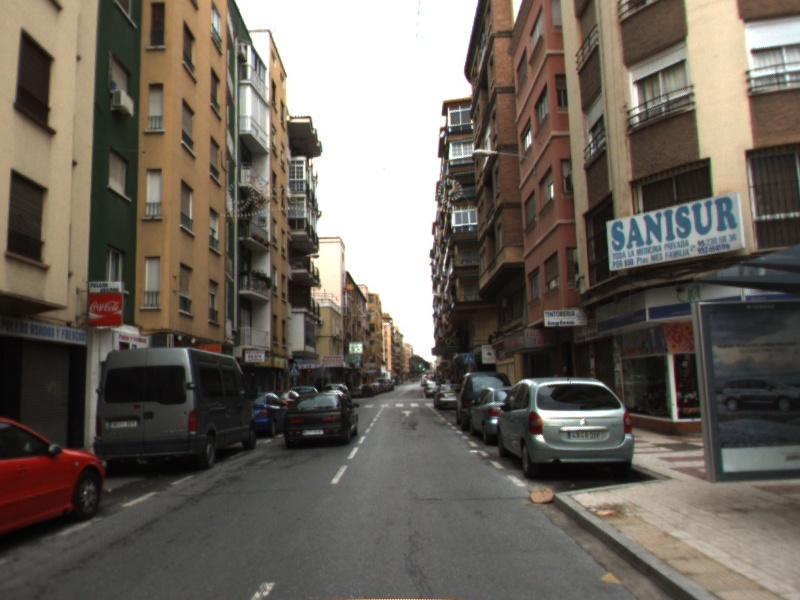STRAIGHT: (398, 408, 416, 418)
